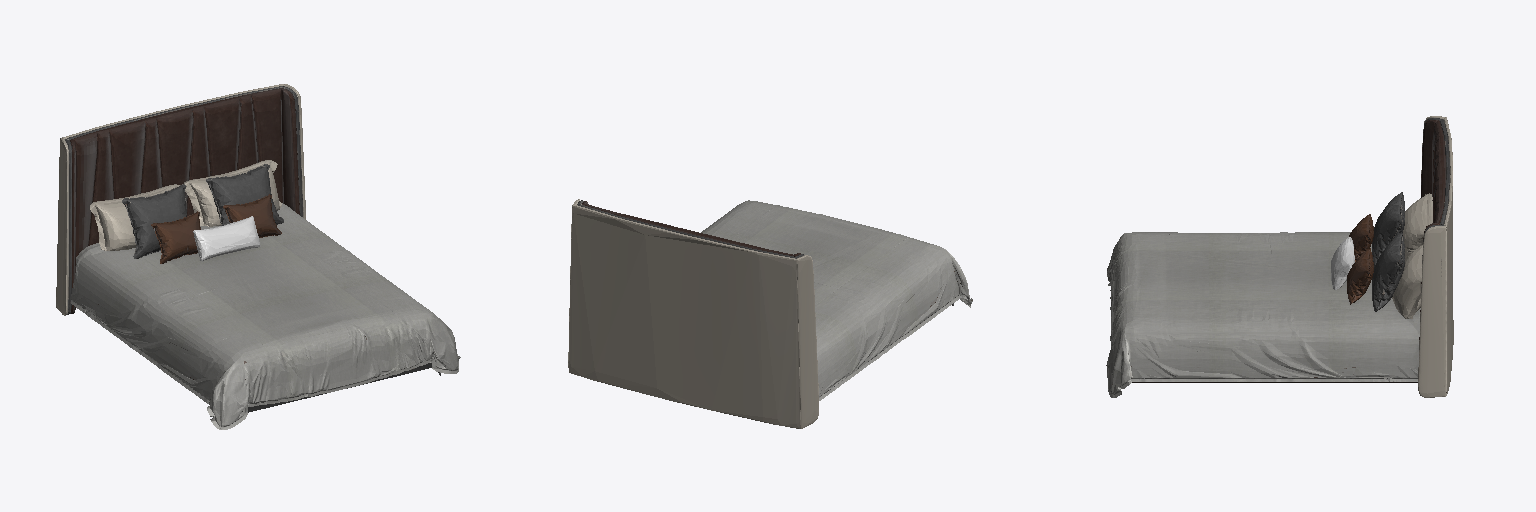
3 views of the same model, side by side, from view 1: azimuth 30°, elevation 25°; view 2: azimuth 150°, elevation 25°; view 3: azimuth 270°, elevation 25° (orthographic).
Parts seen in each view (by area): view 1: solid_003, solid_005, solid_002, solid_001, solid_004, solid_007; view 2: solid_002, solid_003, solid_005; view 3: solid_003, solid_002, solid_001, solid_005, solid_004, solid_007.
Boxes of the visible parts, <box> form: solid_003: <box>70,203,460,429</box>; solid_005: <box>70,88,299,313</box>; solid_002: <box>56,84,305,315</box>; solid_001: <box>65,86,302,314</box>; solid_004: <box>151,194,281,263</box>; solid_007: <box>193,216,260,260</box>; solid_002: <box>568,199,818,428</box>; solid_003: <box>701,200,972,400</box>; solid_005: <box>582,201,800,256</box>; solid_003: <box>1106,232,1420,397</box>; solid_002: <box>1392,116,1453,397</box>; solid_001: <box>1372,118,1449,311</box>; solid_005: <box>1132,120,1445,382</box>; solid_004: <box>1347,214,1373,304</box>; solid_007: <box>1331,237,1354,289</box>.
Size of the model in its own units: 1.6 by 1.04 by 1.93.
1 materials, 1 textured.